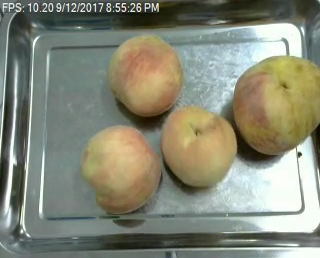Peach: (232, 54, 319, 155), (82, 124, 164, 214), (161, 104, 238, 188), (107, 33, 183, 115)
